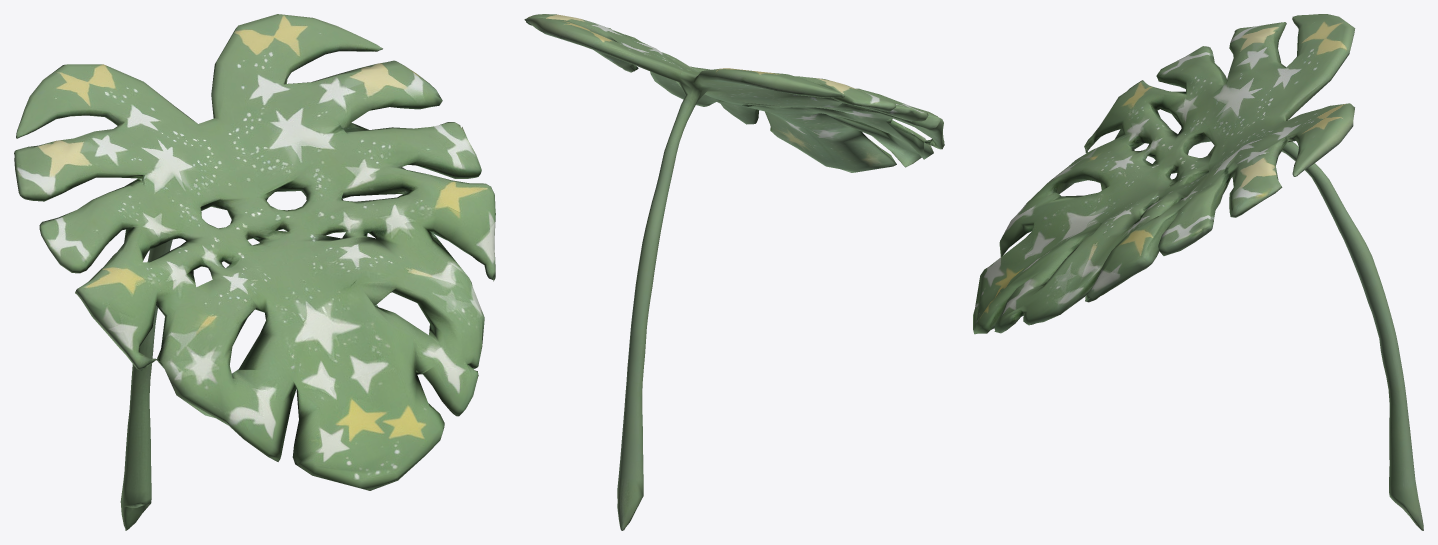
Rendered from mon_star_palegreen.glb.
The picture shows the model from 3 angles, left to right: view 1: azimuth 30°, elevation 25°; view 2: azimuth 150°, elevation 25°; view 3: azimuth 270°, elevation 25°; orthographic projection. The views are drawn at different scales.
Bounding box in the file's own units: 1.7 × 2 × 1.77.
1 material, 1 textured.
